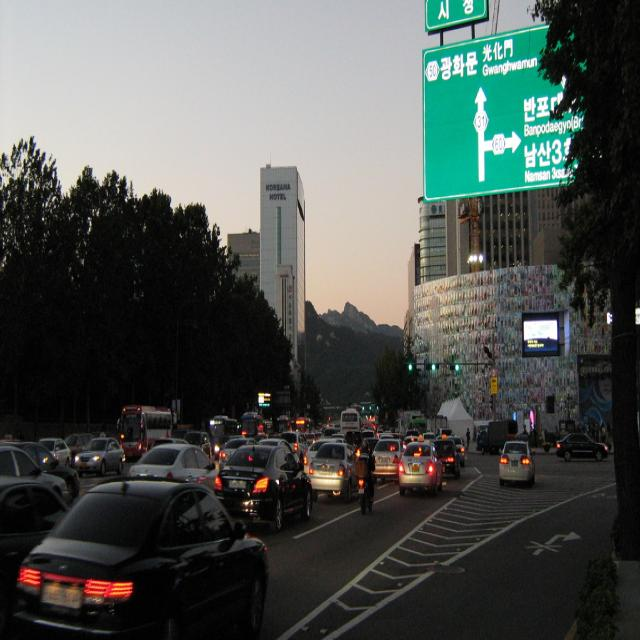car: (16, 440, 255, 630), (219, 432, 313, 524), (300, 436, 354, 496), (394, 434, 444, 495), (498, 435, 534, 491), (555, 425, 610, 458), (369, 432, 406, 481)
